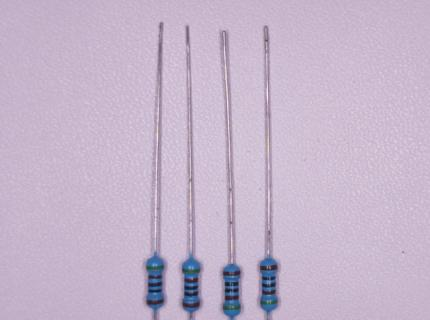Black band: (185, 285, 199, 290), (148, 282, 162, 287), (262, 283, 277, 287), (225, 282, 239, 286), (225, 289, 239, 293), (185, 291, 199, 295), (262, 277, 276, 280), (148, 289, 162, 292)
Brown band: (147, 299, 165, 305), (183, 302, 199, 308), (260, 265, 278, 270), (223, 271, 240, 276), (262, 289, 276, 295), (185, 278, 199, 283), (225, 296, 239, 300), (149, 275, 161, 279)
Green band: (224, 305, 241, 310), (147, 266, 164, 270), (183, 269, 200, 273), (261, 300, 278, 304)
